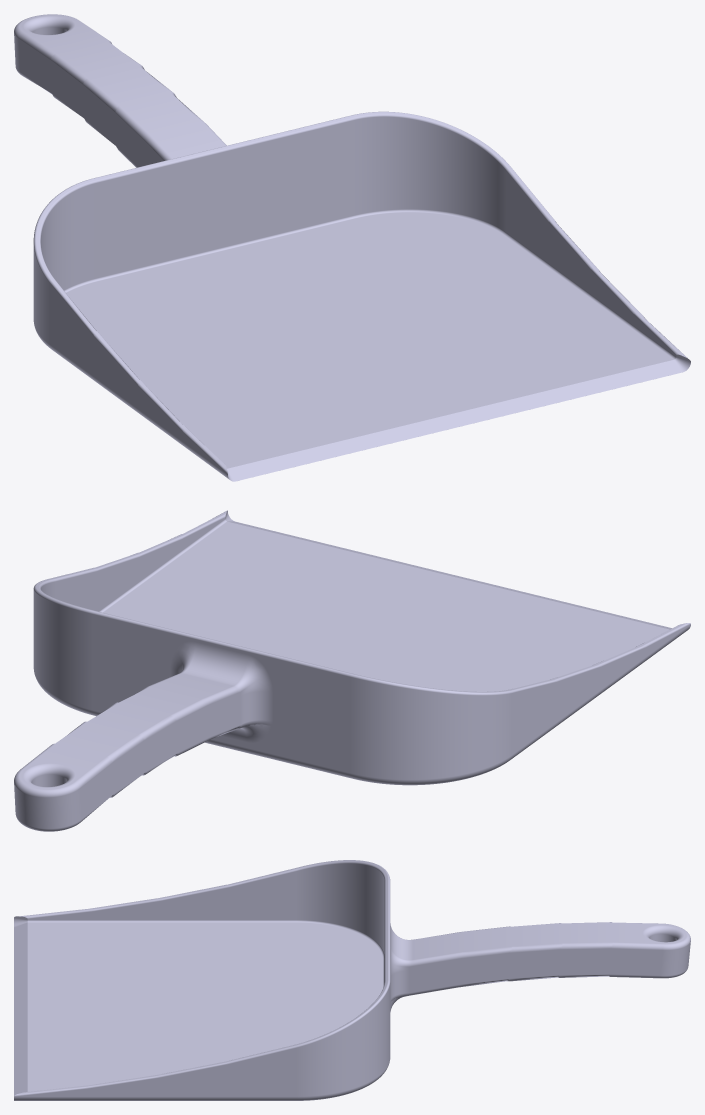
The model's file is dustpan.gltf.
The picture shows the model from 3 angles, top to bottom: view 1: azimuth 30°, elevation 25°; view 2: azimuth 150°, elevation 25°; view 3: azimuth 270°, elevation 25°; orthographic projection. The views are drawn at different scales.
Parts seen in each view (by area): view 1: Body; view 2: Body; view 3: Body.
Boxes of the visible parts, x1=… form: Body: x1=14, y1=14, x2=690, y2=481; Body: x1=14, y1=510, x2=690, y2=831; Body: x1=14, y1=860, x2=690, y2=1100.
Size of the model in its own units: 0.225 by 0.0496 by 0.3598.
